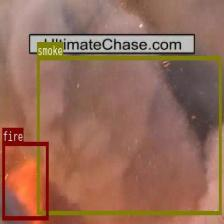fire: (2, 141, 48, 220)
smoke: (37, 55, 221, 214)
